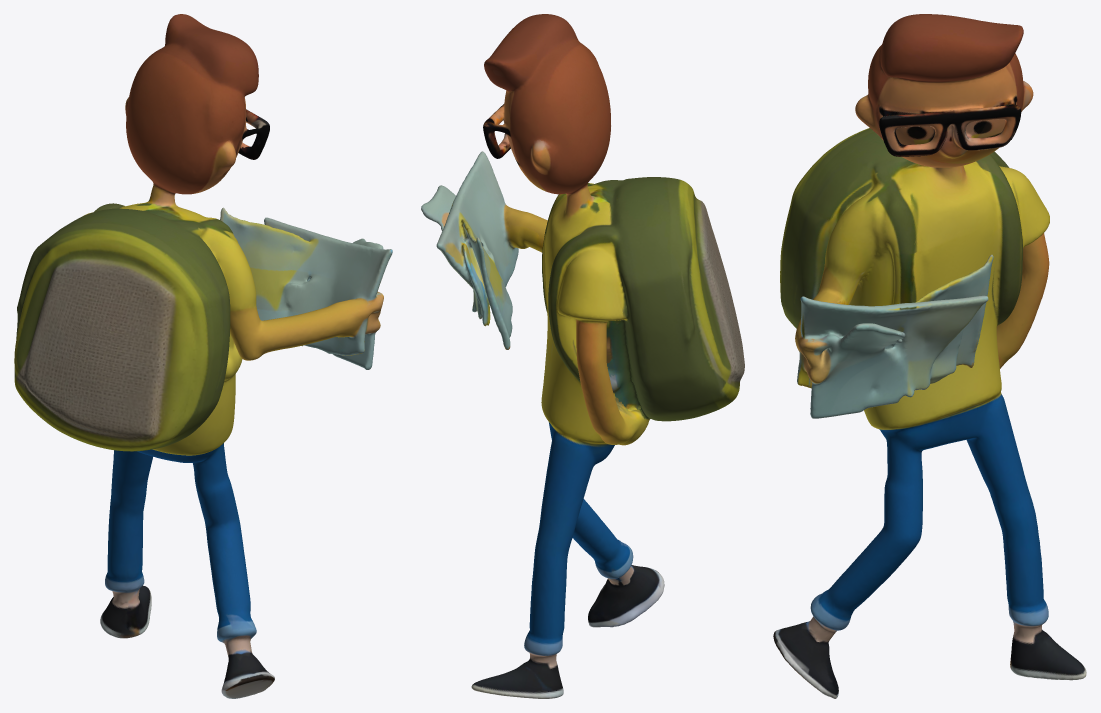
The model's file is tripo_pbr_model_e8d95d41-326d-4008-ac90-d10c04e12c2d.gltf.
The picture shows the model from 3 angles, left to right: view 1: azimuth 30°, elevation 25°; view 2: azimuth 150°, elevation 25°; view 3: azimuth 270°, elevation 25°; orthographic projection. The views are drawn at different scales.
Visible parts, largest first — view 1: tripo_node_e8d95d41-326d-4008-ac90-d10c04e12c2d; view 2: tripo_node_e8d95d41-326d-4008-ac90-d10c04e12c2d; view 3: tripo_node_e8d95d41-326d-4008-ac90-d10c04e12c2d.
Part boxes in pixels (bbox=[...]): tripo_node_e8d95d41-326d-4008-ac90-d10c04e12c2d: bbox=[14, 14, 392, 698]; tripo_node_e8d95d41-326d-4008-ac90-d10c04e12c2d: bbox=[421, 14, 744, 698]; tripo_node_e8d95d41-326d-4008-ac90-d10c04e12c2d: bbox=[773, 14, 1086, 698].
Bounding box in the file's own units: 0.5172 × 0.9463 × 0.3924.
Materials: 1 (1 with a texture image).
